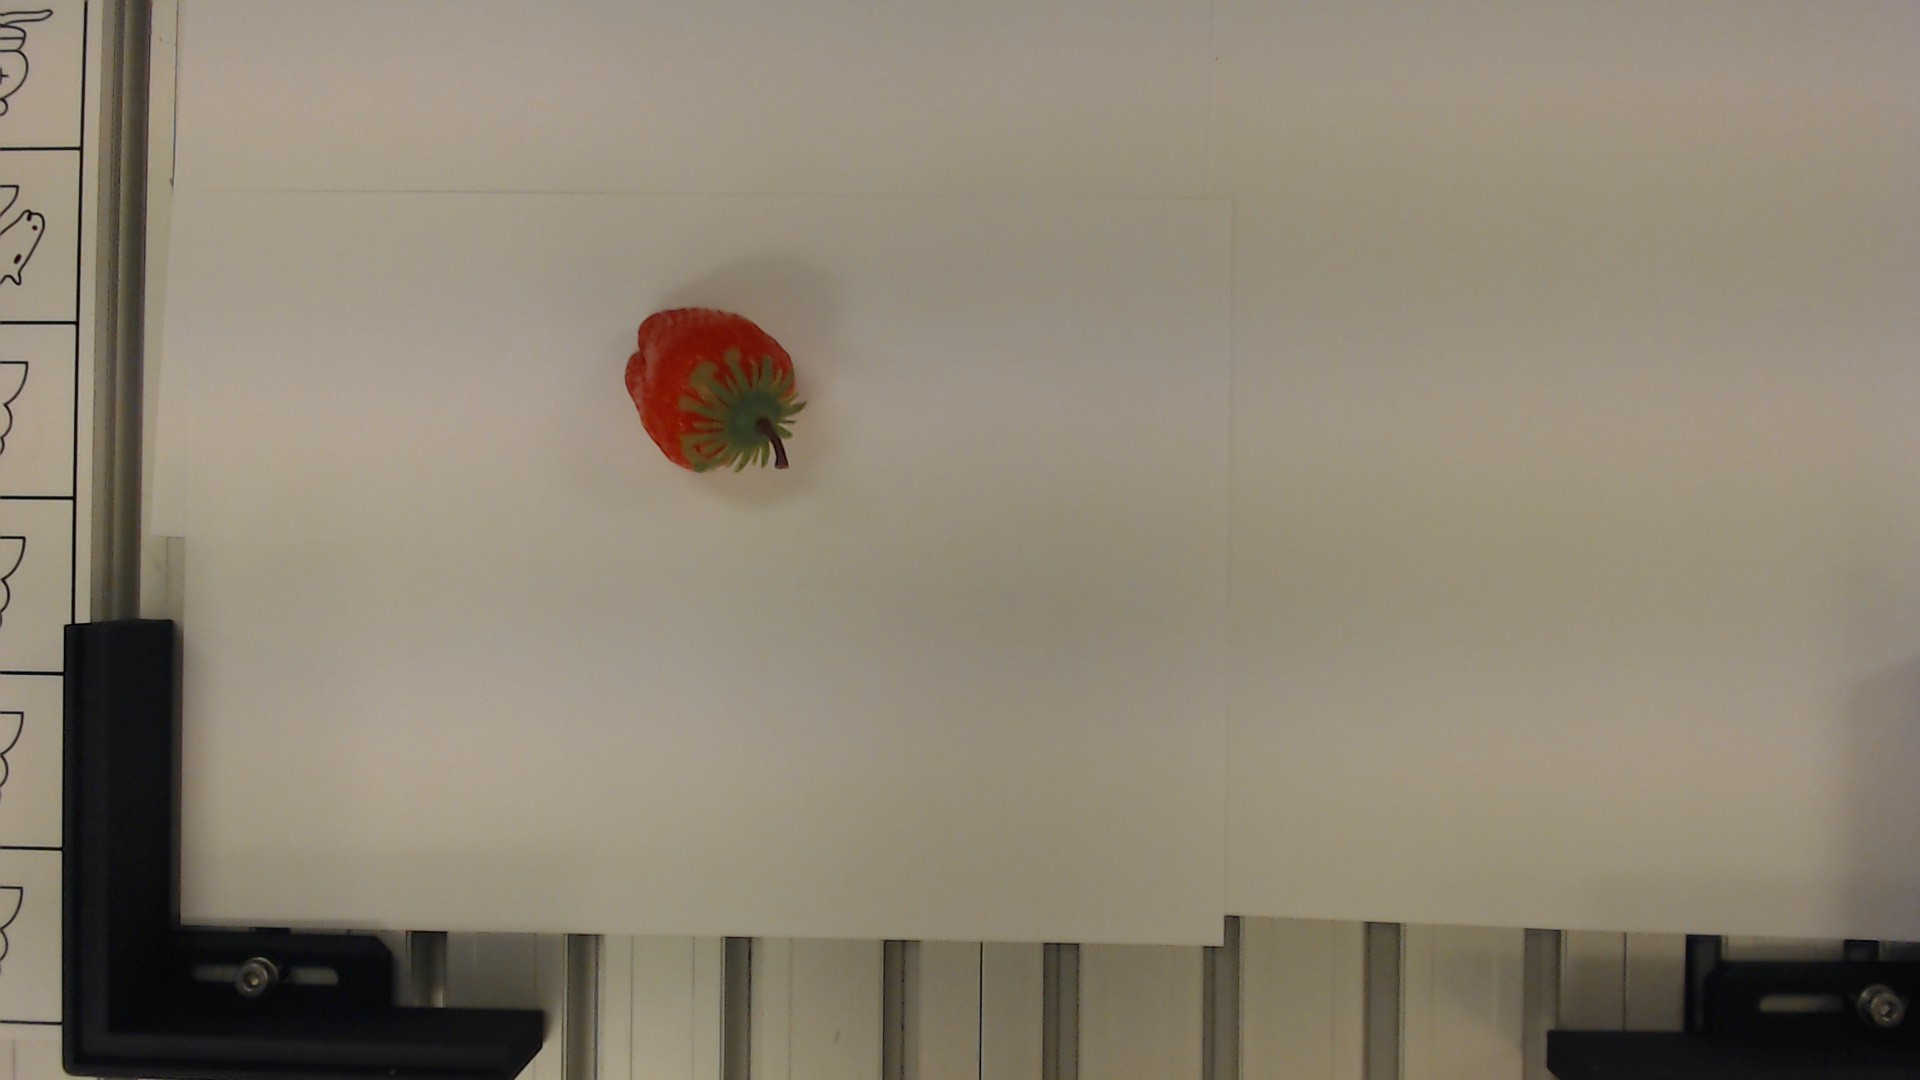Strawberry: (620, 302, 807, 480)
